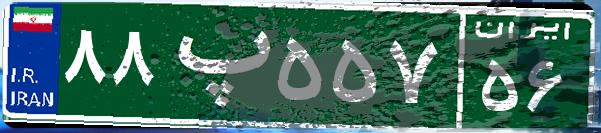5: (273, 28, 330, 110), (330, 28, 385, 110), (475, 38, 525, 113)
6: (525, 38, 570, 115)
7: (385, 28, 445, 110)
8: (57, 26, 110, 107), (110, 28, 158, 105)
پ: (158, 15, 273, 115)
